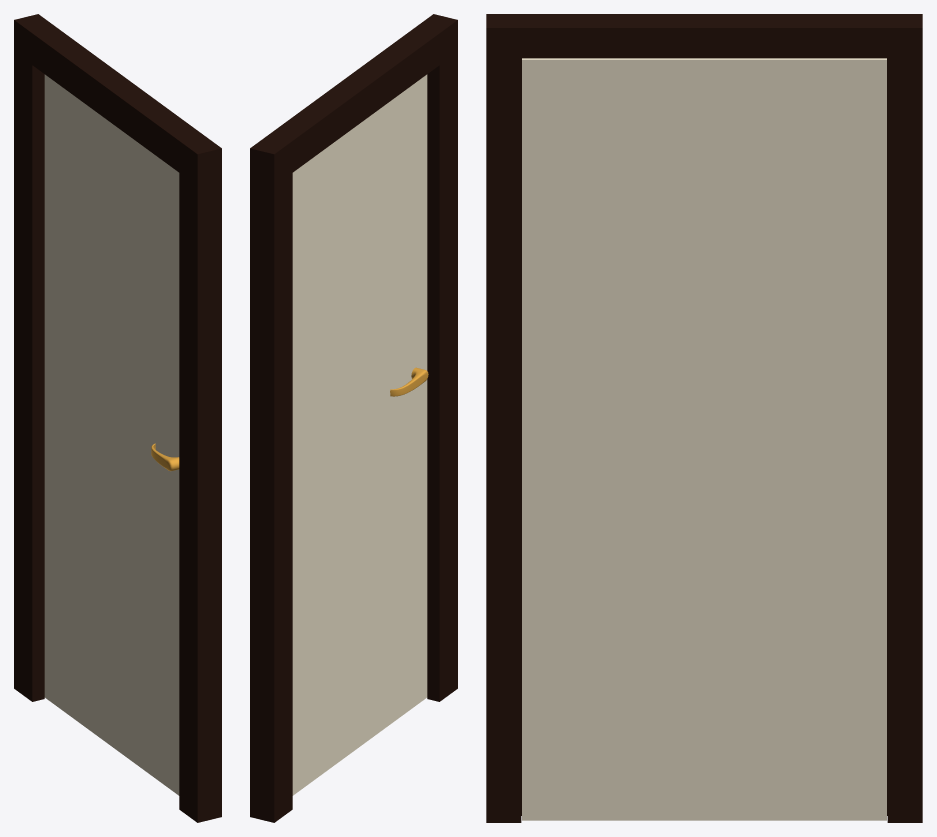
File: door_opening_animation_colored.glb
The picture shows the model from 3 angles, left to right: view 1: azimuth 30°, elevation 25°; view 2: azimuth 150°, elevation 25°; view 3: azimuth 270°, elevation 25°; orthographic projection. The views are drawn at different scales.
Visible parts, largest first — view 1: Door.004, DoorFrame.022; view 2: Door.004, DoorFrame.022, Handle_Front.004; view 3: Door.004, DoorFrame.022.
Part boxes in pixels (x1=…): Door.004: x1=44, y1=74, x2=179, y2=795; DoorFrame.022: x1=14, y1=14, x2=221, y2=822; Door.004: x1=292, y1=74, x2=427, y2=795; DoorFrame.022: x1=250, y1=14, x2=457, y2=822; Handle_Front.004: x1=390, y1=367, x2=428, y2=396; Door.004: x1=522, y1=58, x2=886, y2=820; DoorFrame.022: x1=486, y1=14, x2=922, y2=822.
Size of the model in its own units: 0.1187 by 3.11 by 1.55.
